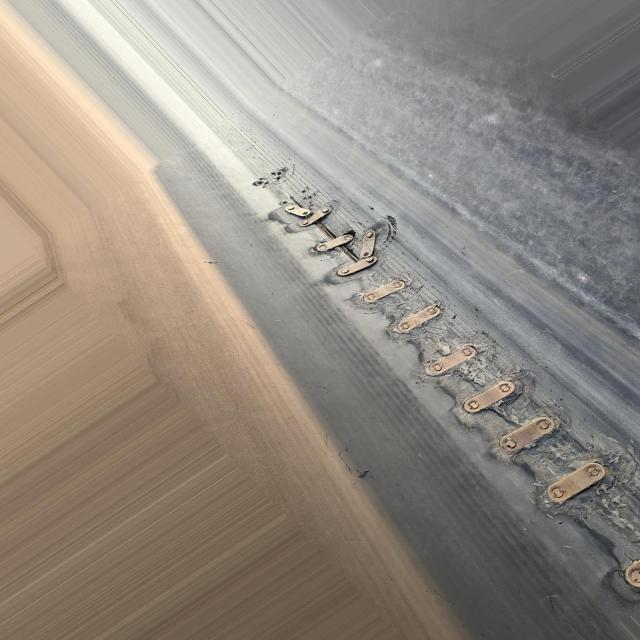patch work: (237, 164, 640, 613)
